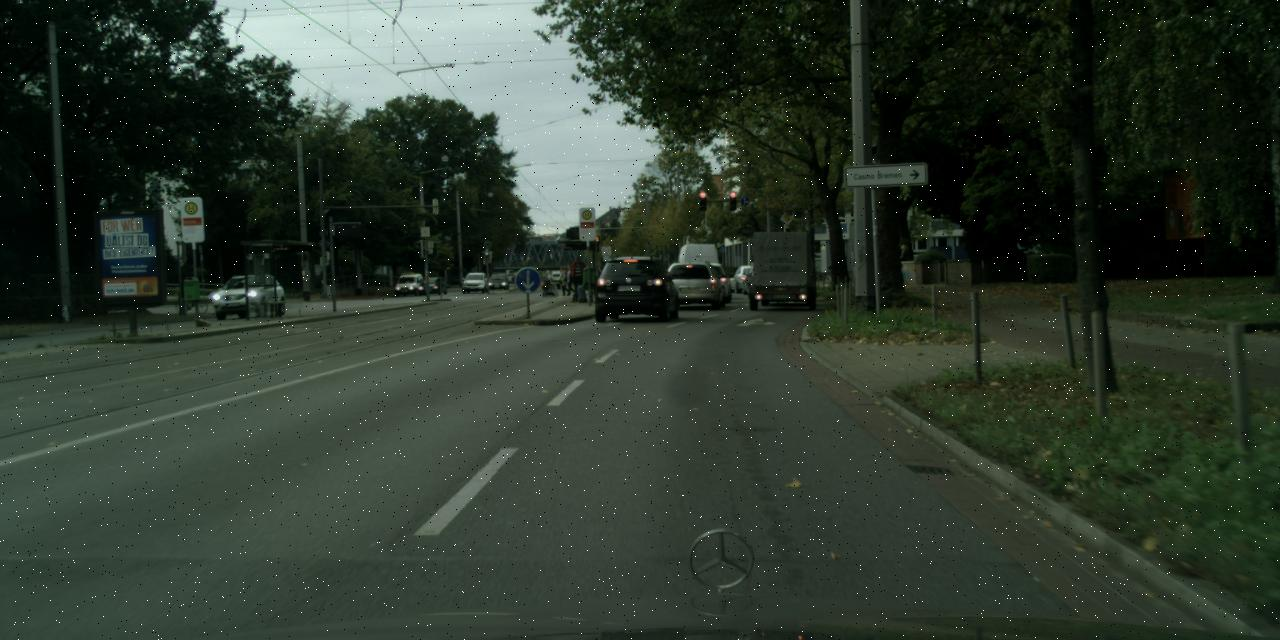ped: (559, 256, 589, 303), (895, 244, 911, 282), (590, 266, 602, 303)
